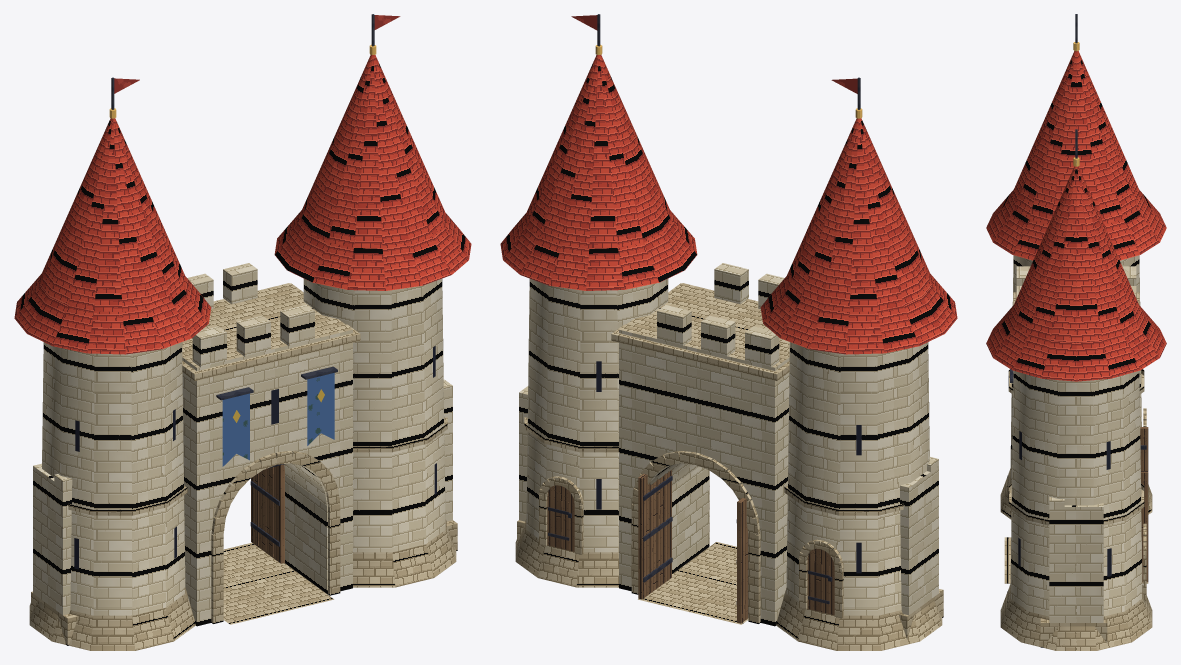
File: town_gate_1.glb
3 views of the same model, side by side, from view 1: azimuth 30°, elevation 25°; view 2: azimuth 150°, elevation 25°; view 3: azimuth 270°, elevation 25° (orthographic). The views are drawn at different scales.
Visible parts, largest first — view 1: town_gate_2; view 2: town_gate_2; view 3: town_gate_2.
Part boxes in pixels (left/top/right/bottom): town_gate_2: left=14, top=14, right=471, bottom=650; town_gate_2: left=500, top=14, right=957, bottom=650; town_gate_2: left=986, top=14, right=1166, bottom=650.
Size of the model in its own units: 13.29 by 15.8 by 5.29.
10 materials, 10 textured.
